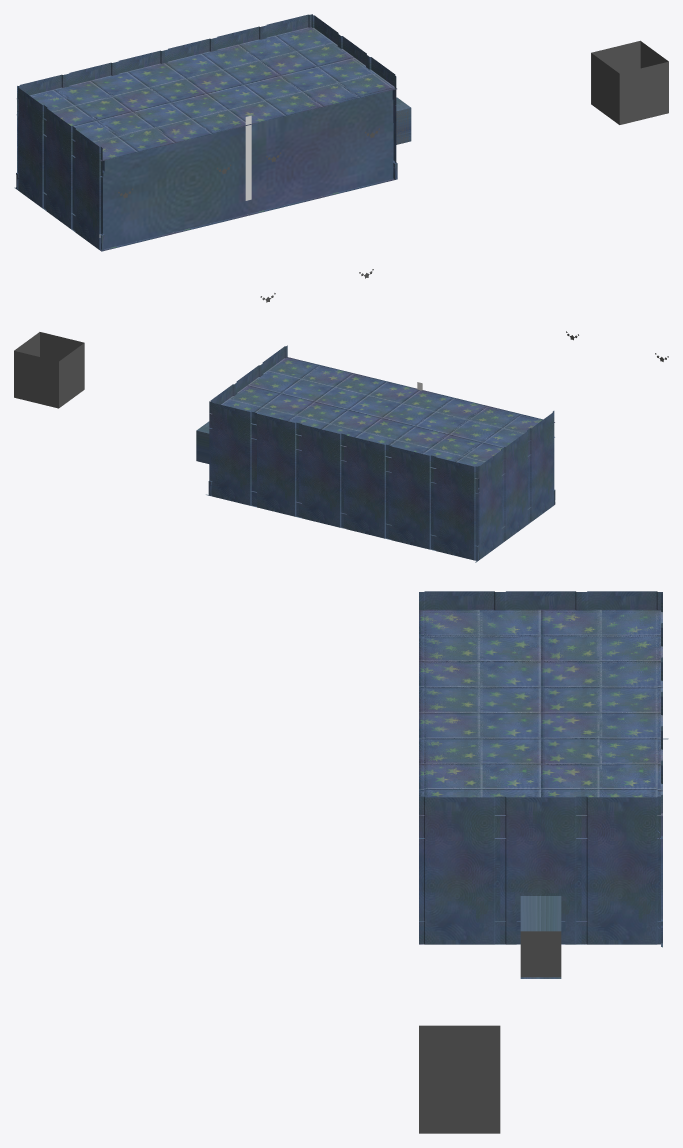
Rendered from las_17_bake_split.dae.
The picture shows the model from 3 angles, top to bottom: view 1: azimuth 30°, elevation 25°; view 2: azimuth 150°, elevation 25°; view 3: azimuth 270°, elevation 25°; orthographic projection. The views are drawn at different scales.
Visible parts, largest first — view 1: pCube4_q00011, pCube1_q00215, pCube1_q00009, polySurface216_q00002, pCube3_q00210, pCube3_q00208, pCube3_q00209, w_bero_1, pCube3_q00198, pCube1_q00216, pCube3_q00187, pCube3_q00186 (+6 smaller); view 2: pCube1_q00215, pCube1_q00009, pCube3_q00186, pCube3_q00187, pCube3_q00184, pCube3_q00183, pCube3_q00182, pCube3_q00185, polySurface216_q00002, pCube3_q00208, pCube3_q00210, pCube3_q00209 (+2 smaller); view 3: pCube1_q00215, pCube1_q00009, pCube3_q00197, pCube3_q00196, pCube3_q00198, polySurface216_q00002, w_bero_1, polySurface204_q00000, pCube3_q00210, pCube3_q00208, pCube3_q00209, pCube3_q00005.
Boxes of the visible parts, <box> form: pCube4_q00011: <box>103,90,393,249</box>; pCube1_q00215: <box>16,27,396,161</box>; pCube1_q00009: <box>31,29,392,158</box>; polySurface216_q00002: <box>591,40,668,124</box>; pCube3_q00210: <box>43,107,74,229</box>; pCube3_q00208: <box>71,127,102,249</box>; pCube3_q00209: <box>14,86,45,209</box>; w_bero_1: <box>591,53,619,124</box>; pCube3_q00198: <box>339,35,411,144</box>; pCube1_q00216: <box>100,178,394,251</box>; pCube3_q00187: <box>17,74,66,173</box>; pCube3_q00186: <box>66,62,115,86</box>; pCube1_q00215: <box>209,357,554,478</box>; pCube1_q00009: <box>223,363,541,466</box>; pCube3_q00186: <box>388,445,433,549</box>; pCube3_q00187: <box>430,456,478,560</box>; pCube3_q00184: <box>206,401,254,505</box>; pCube3_q00183: <box>295,423,343,527</box>; pCube3_q00182: <box>252,412,298,516</box>; pCube3_q00185: <box>344,434,388,538</box>; polySurface216_q00002: <box>14,332,84,408</box>; pCube3_q00208: <box>528,411,554,523</box>; pCube3_q00210: <box>502,430,528,541</box>; pCube3_q00209: <box>475,448,502,562</box>; pCube1_q00215: <box>419,609,662,815</box>; pCube1_q00009: <box>424,611,657,797</box>; pCube3_q00197: <box>419,796,500,944</box>; pCube3_q00196: <box>576,796,660,944</box>; pCube3_q00198: <box>495,796,581,978</box>; polySurface216_q00002: <box>419,1060,500,1133</box>; w_bero_1: <box>419,1025,500,1059</box>; polySurface204_q00000: <box>520,931,561,977</box>; pCube3_q00210: <box>500,591,581,610</box>; pCube3_q00208: <box>419,591,500,610</box>; pCube3_q00209: <box>581,591,668,739</box>; pCube3_q00005: <box>521,909,560,931</box>.
Bounding box in the file's own units: 115 × 20 × 80.55.
